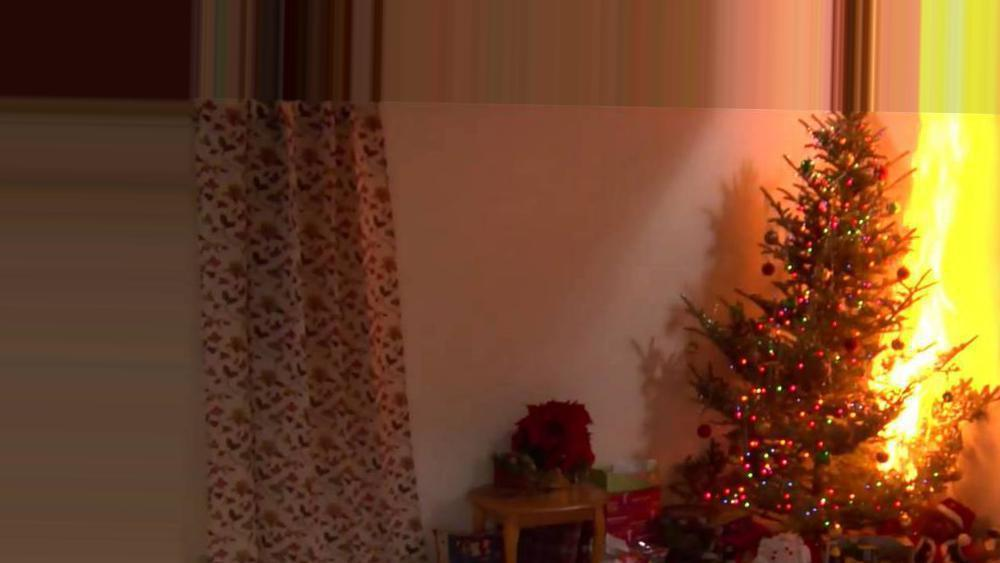fire: (865, 0, 997, 471)
